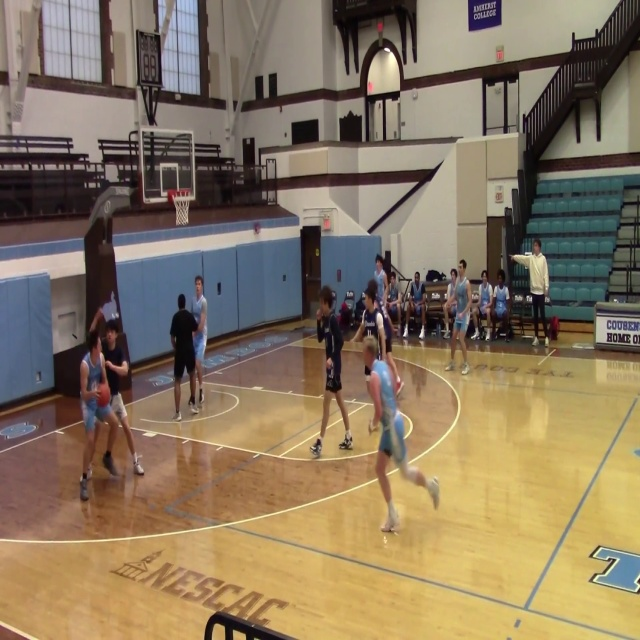Basketball: (393, 410, 413, 440), (95, 383, 111, 406), (362, 336, 378, 358), (394, 376, 404, 396), (471, 293, 480, 303)
